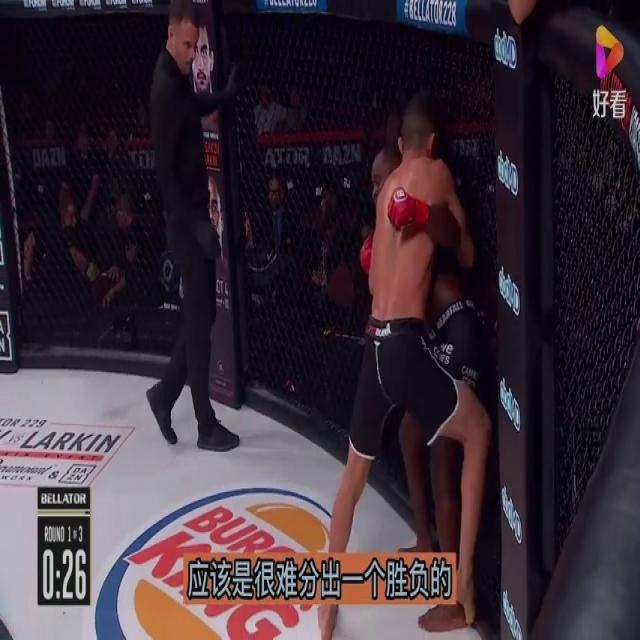fight: (323, 88, 494, 639)
non-fight: (148, 0, 256, 449)
